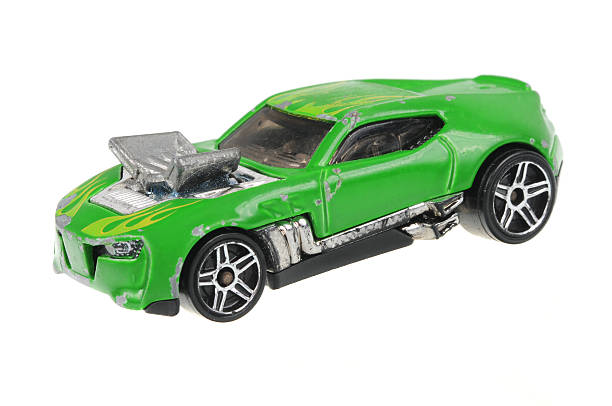Car: (24, 24, 582, 364)
